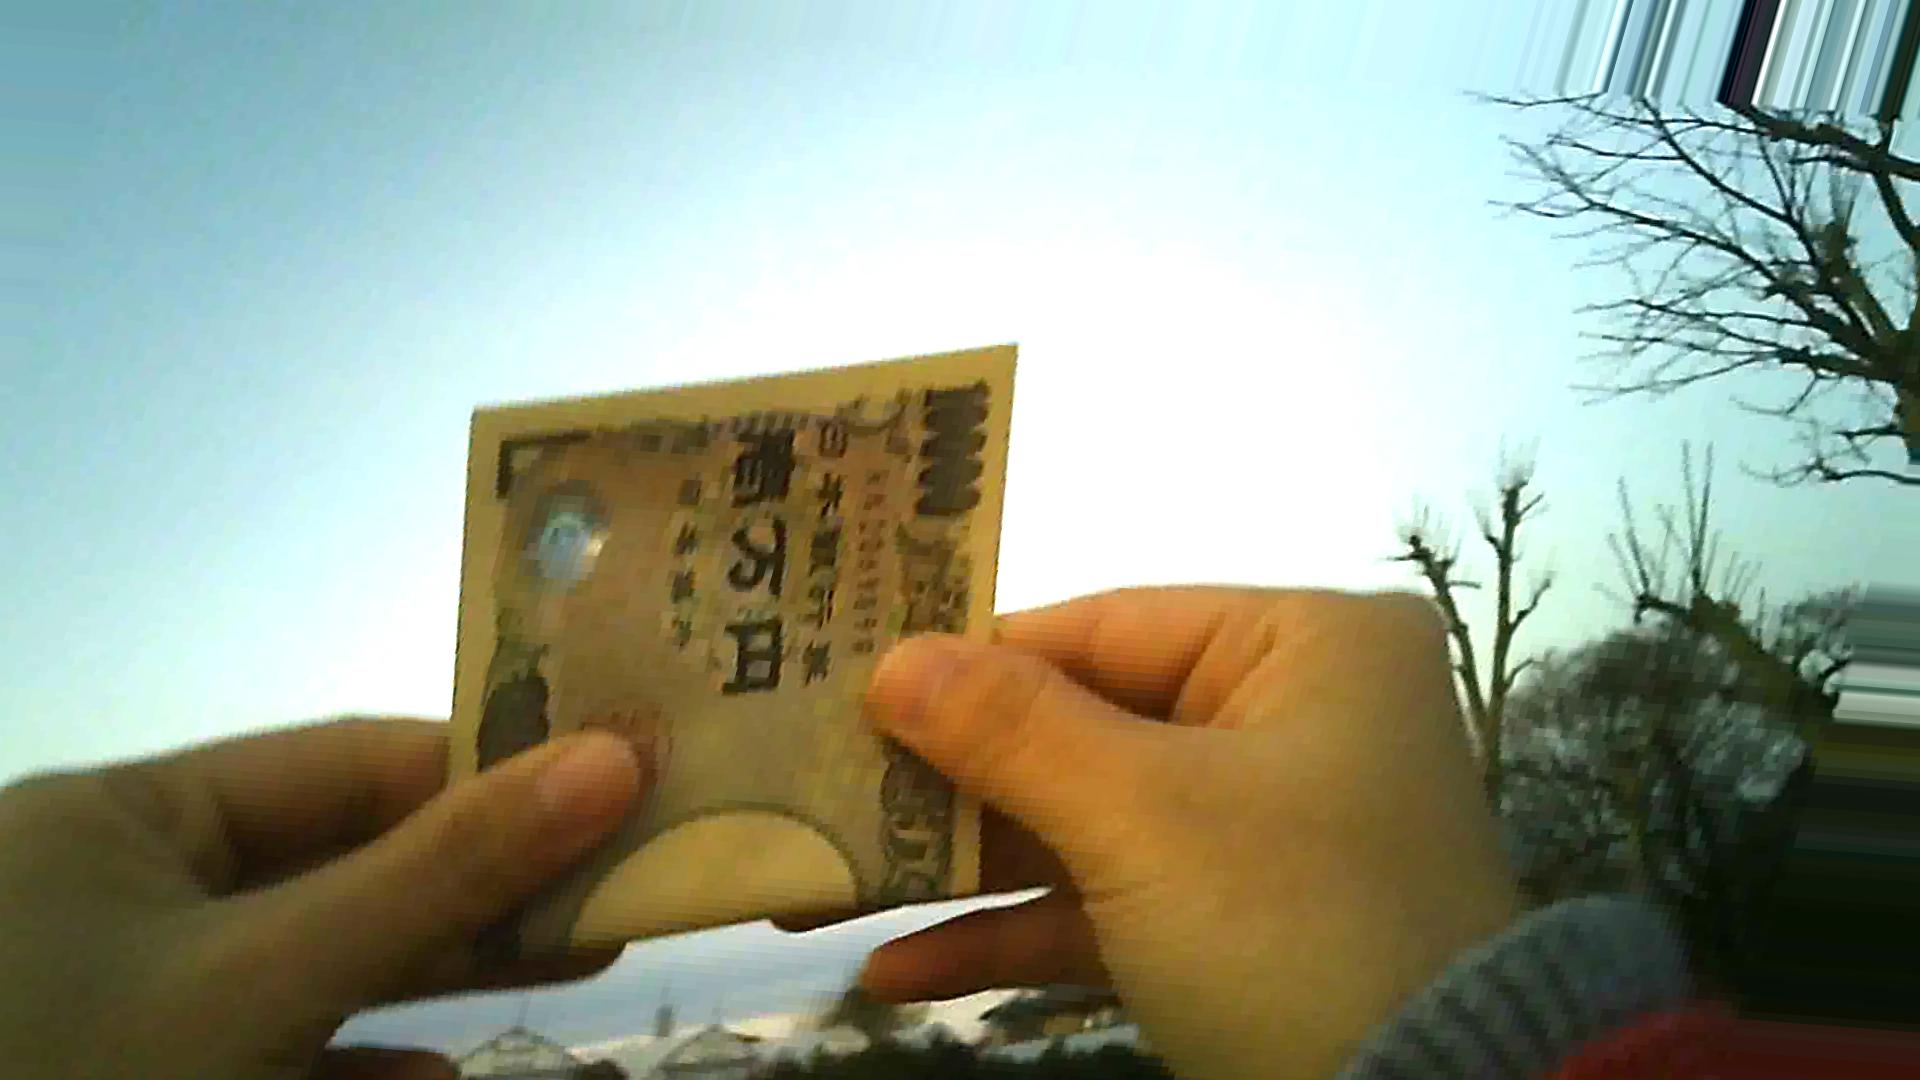10,000 Yen: (415, 331, 1044, 945)
